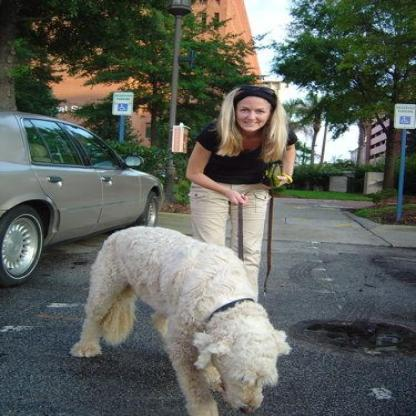komondor: (63, 222, 290, 414)
